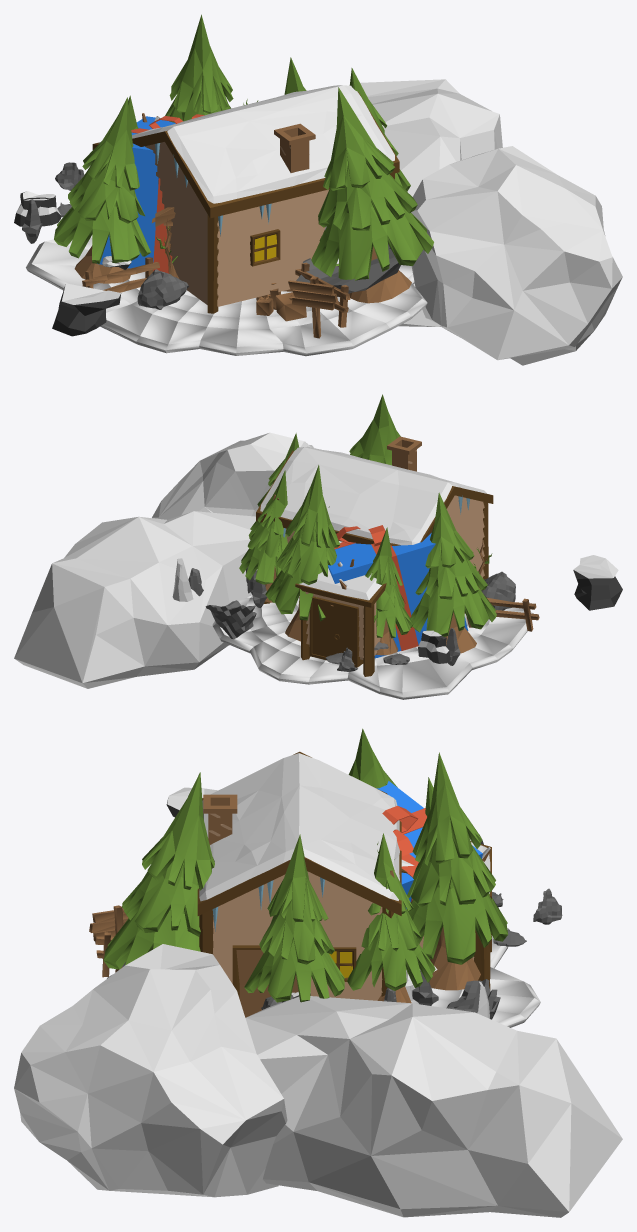
Rendered from Props-02.fbx.
3 renders of one model, top to bottom at view 1: azimuth 30°, elevation 25°; view 2: azimuth 150°, elevation 25°; view 3: azimuth 270°, elevation 25°, orthographic. The views are drawn at different scales.
Visible parts, largest first — view 1: Igloo-01, House-01, Cabin-01, Stone-02, Stone-01, Box-01; view 2: Igloo-01, House-01, Cabin-01, Box-01, Stone-02, Stone-01; view 3: Igloo-01, Cabin-01, House-01, Stone-02, Box-01, Stone-01.
Part boxes in pixels (<box>): Igloo-01: <box>26,79,622,365</box>; House-01: <box>92,85,399,313</box>; Cabin-01: <box>54,14,433,338</box>; Stone-02: <box>22,162,400,309</box>; Stone-01: <box>14,191,131,336</box>; Box-01: <box>97,114,204,273</box>; Igloo-01: <box>14,432,533,699</box>; House-01: <box>256,436,493,676</box>; Cabin-01: <box>239,394,539,655</box>; Box-01: <box>328,525,468,658</box>; Stone-02: <box>188,566,515,671</box>; Stone-01: <box>172,555,622,663</box>; Igloo-01: <box>14,928,622,1217</box>; Cabin-01: <box>89,728,508,1003</box>; House-01: <box>197,751,491,1017</box>; Stone-02: <box>122,888,562,1019</box>; Box-01: <box>377,781,482,908</box>; Stone-01: <box>166,787,489,1018</box>.
Size of the model in its own units: 68.8 by 36.16 by 58.4.
